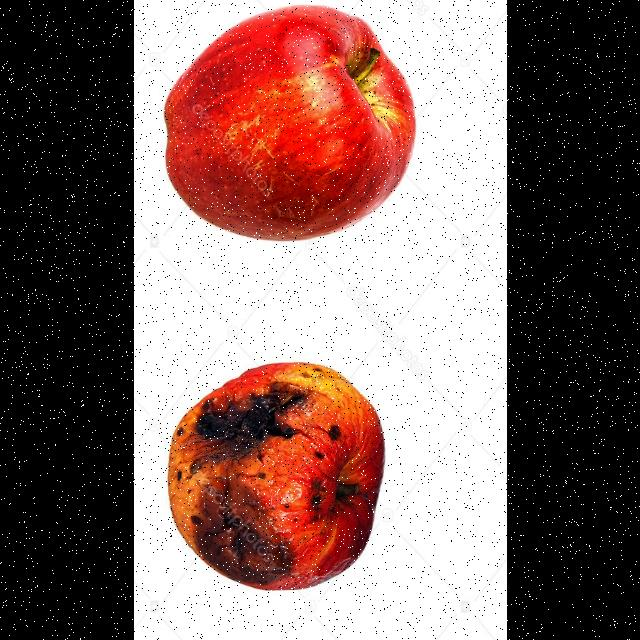Apel Segar: (134, 0, 432, 288)
Apel Tidak Segar: (152, 353, 410, 602)
